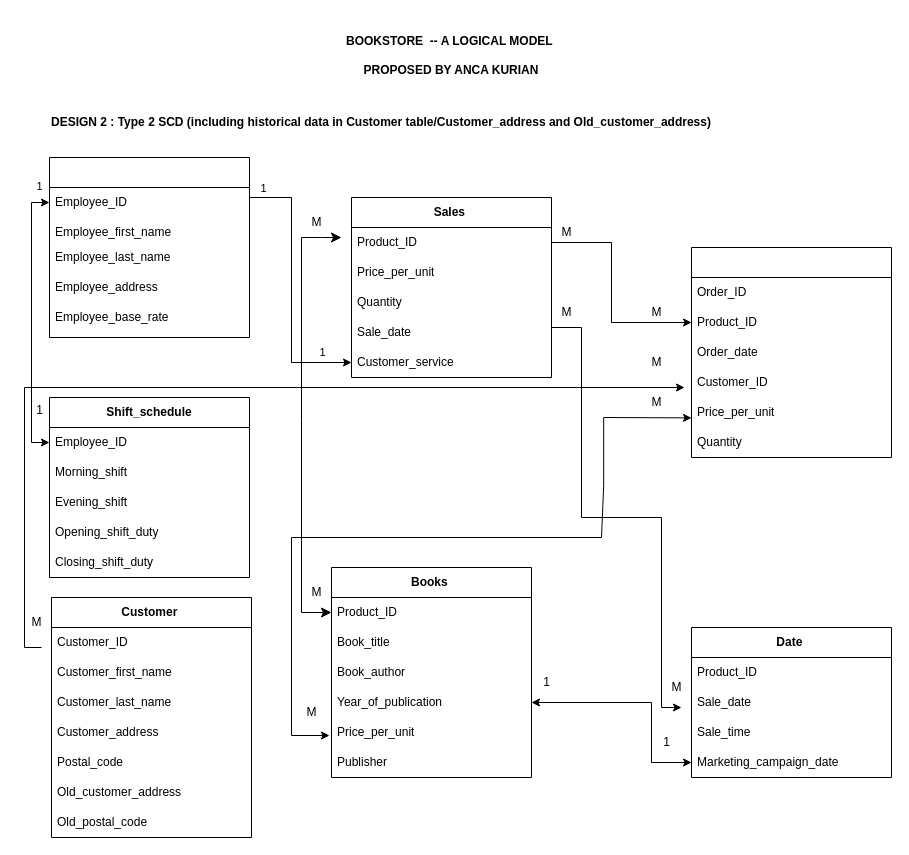
The diagram is 909 pixels wide and 855 high, and some of its shapes have lost their labels. Here are the shapes that lost their labels. From the top down, the box of each, then its label:
(48, 156, 250, 338): Employees
(690, 246, 892, 458): Orders
